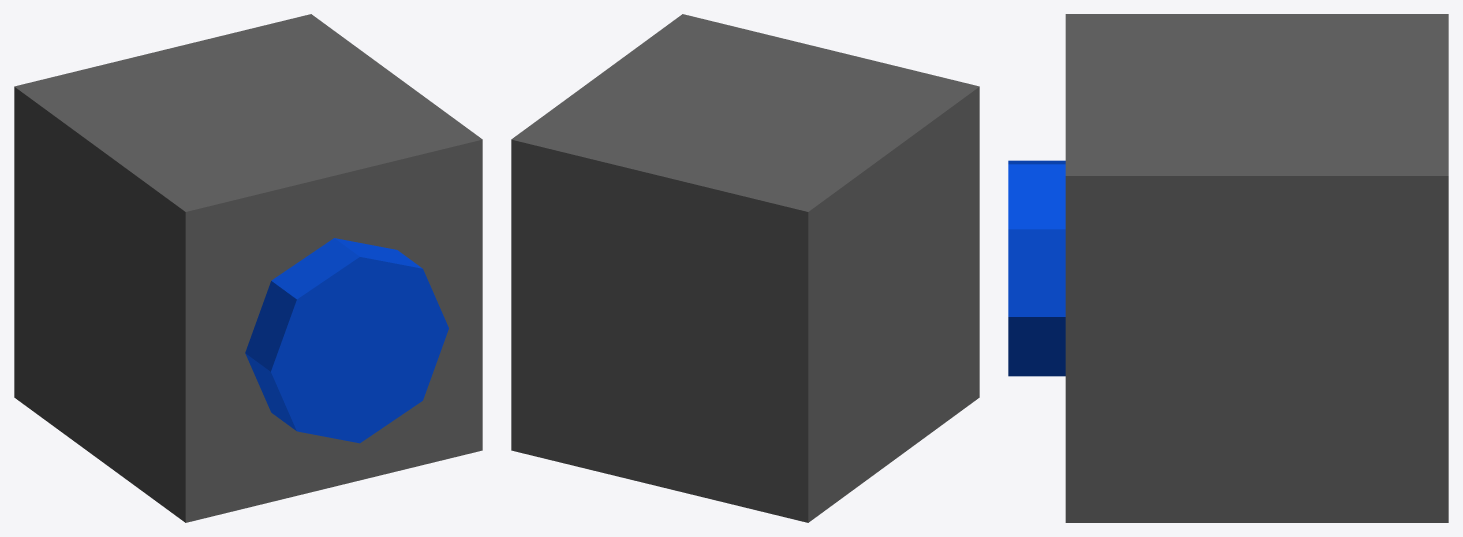
File: 16Amono-plug.glb
3 renders of one model, left to right at view 1: azimuth 30°, elevation 25°; view 2: azimuth 150°, elevation 25°; view 3: azimuth 270°, elevation 25°, orthographic. The views are drawn at different scales.
Parts seen in each view (by area): view 1: 16Amono-plug; view 2: 16Amono-plug; view 3: 16Amono-plug.
Part boxes in pixels (x1=…): 16Amono-plug: x1=14, y1=14, x2=482, y2=522; 16Amono-plug: x1=511, y1=14, x2=979, y2=522; 16Amono-plug: x1=1008, y1=14, x2=1448, y2=522.
Bounding box in the file's own units: 0.1 × 0.1 × 0.115.
